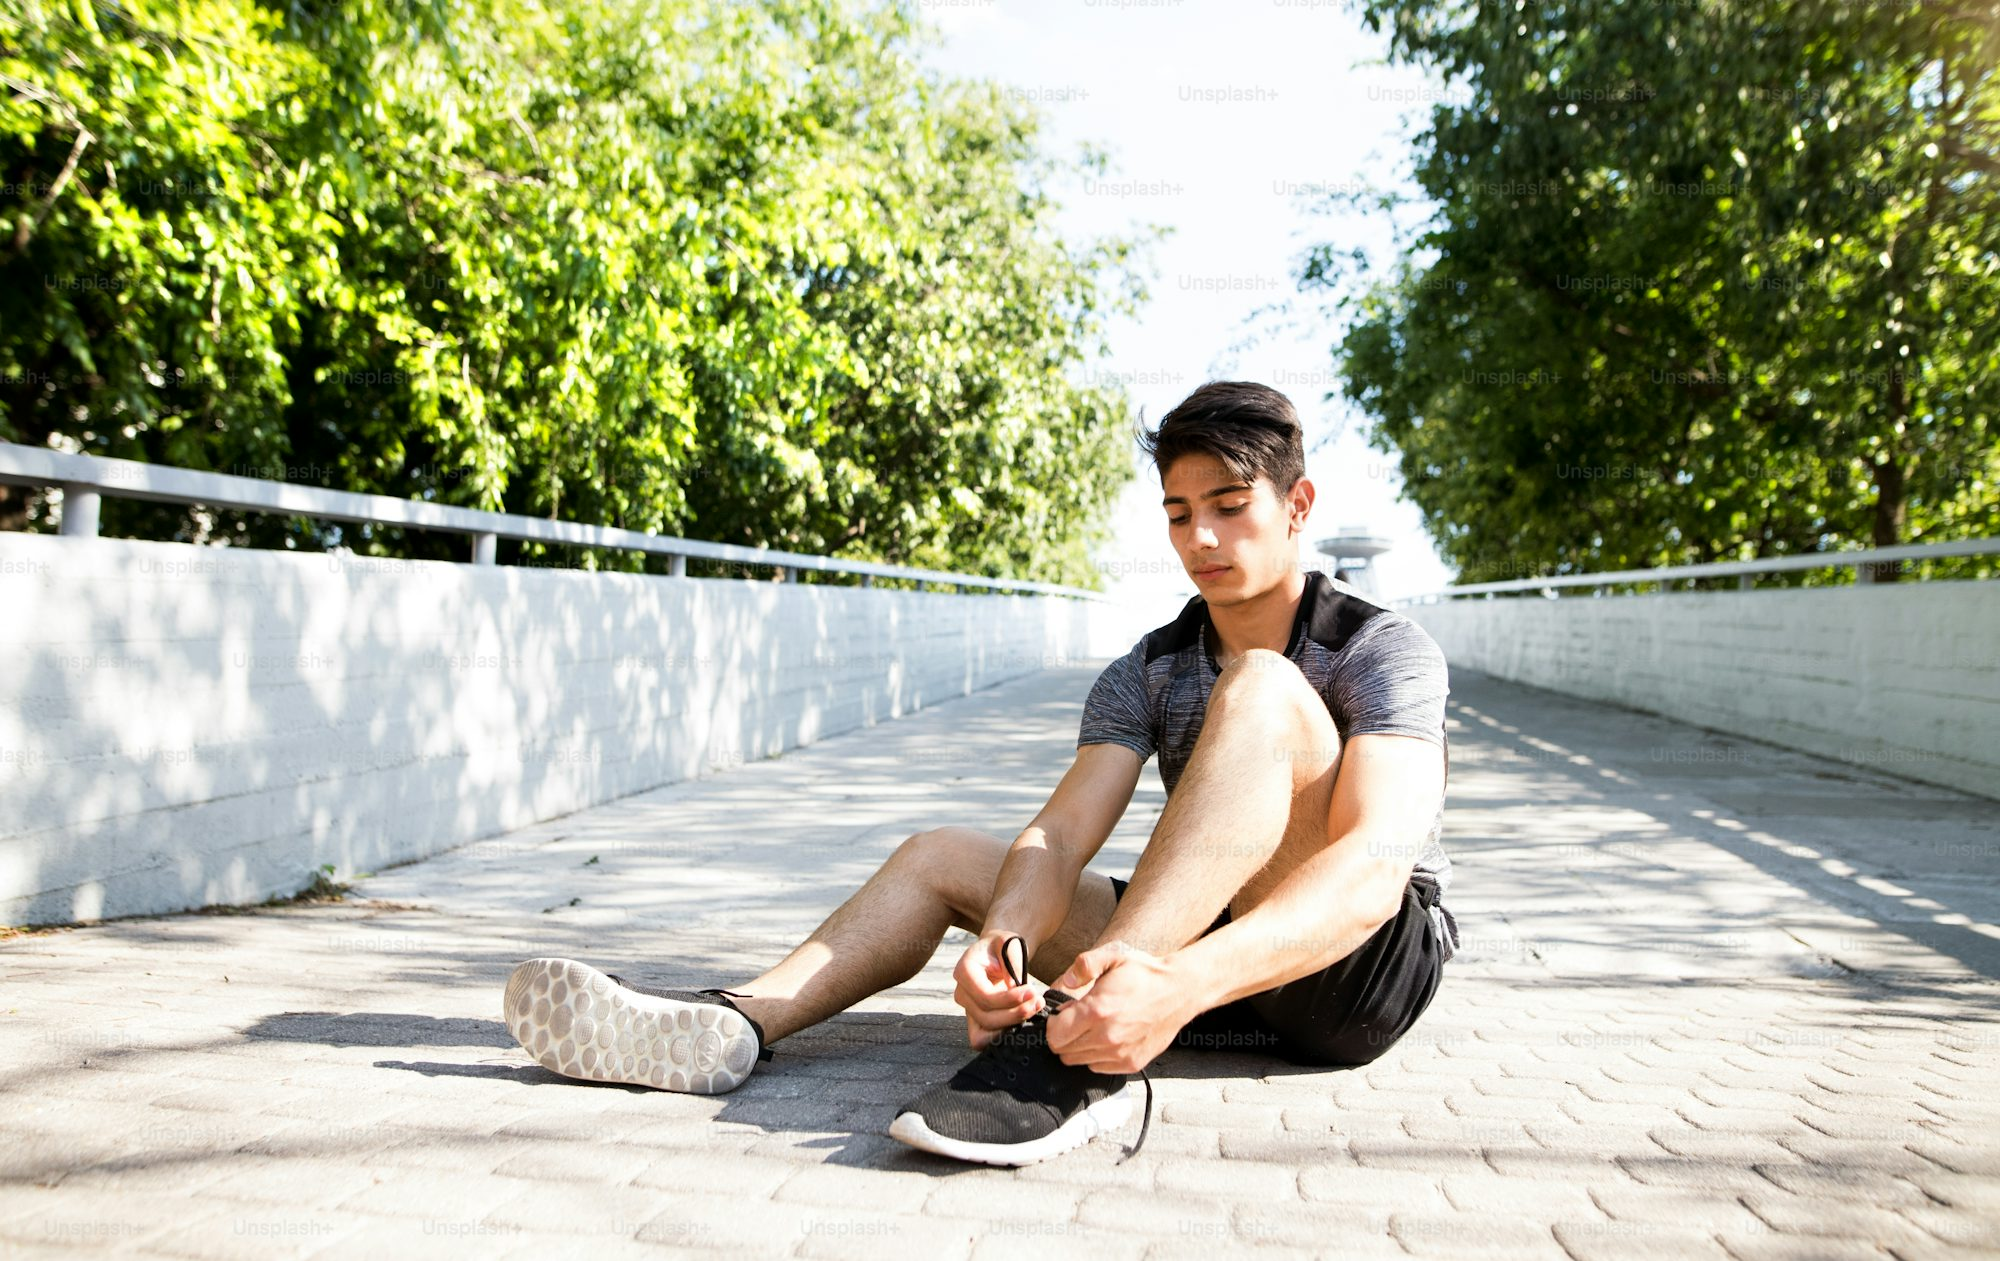person: (471, 364, 1537, 1165)
